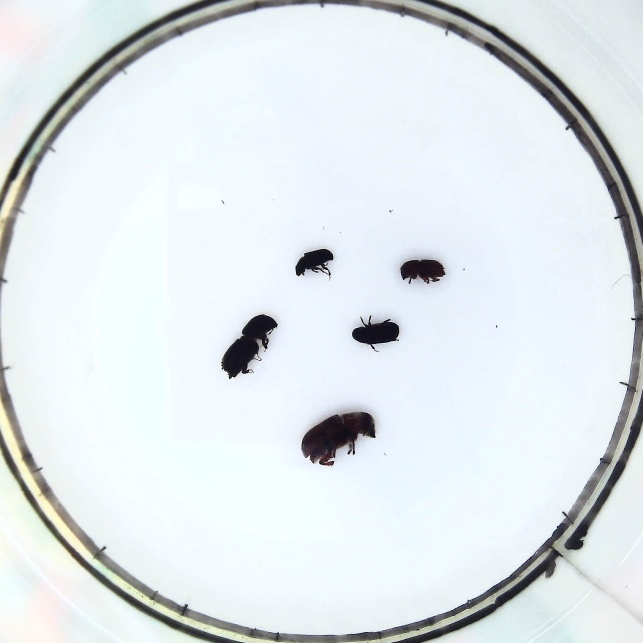armandi: (348, 315, 404, 355)
boerner: (221, 312, 281, 382)
coleoptera: (294, 246, 337, 281)
leconte: (301, 407, 376, 468)
linnaeus: (396, 257, 450, 288)
